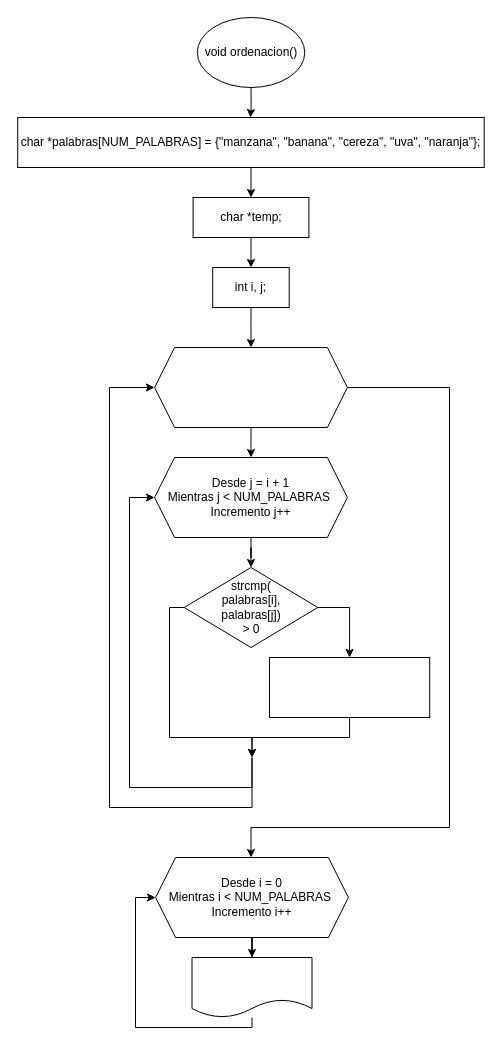
Some shapes in this 502 by 1053 pixel diagram are drawn without their labels. The shapes that lost their labels are listed below. From the top down, each one's centre as x and y in pixels, then its label:
pixel 250 387: Desde i = 0 Mientras i < NUM_PALABRAS - 1 Incremento i++
pixel 349 687: temp = palabras[i]; palabras[i] = palabras[j]; palabras[j] = temp;
pixel 251 987: "%s\n", palabras[i]
